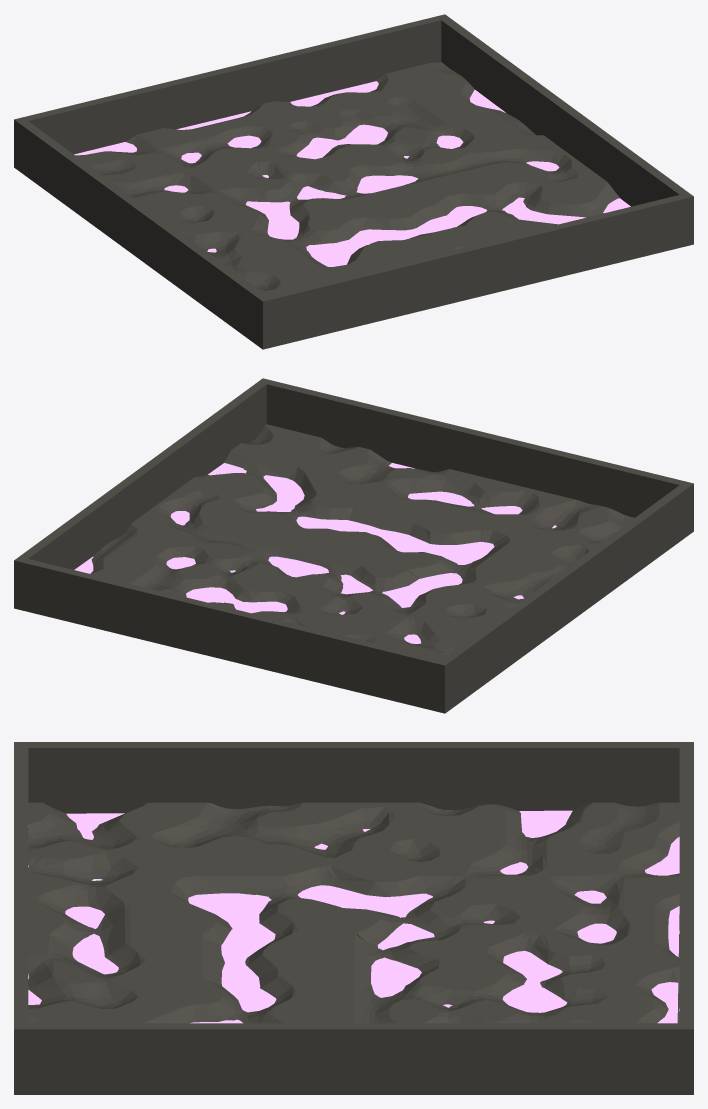
The model's file is krampusOrigin.gltf.
3 views of the same model, one above another, from view 1: azimuth 30°, elevation 25°; view 2: azimuth 150°, elevation 25°; view 3: azimuth 270°, elevation 25° (orthographic). The views are drawn at different scales.
Visible parts, largest first — view 1: border.002, Plane.015, Plane.014; view 2: border.002, Plane.015, Plane.014; view 3: Plane.015, border.002, Plane.014.
Part boxes in pixels (<box>): border.002: <box>14,14,693,349</box>; Plane.015: <box>75,62,620,295</box>; Plane.014: <box>74,81,630,266</box>; border.002: <box>14,378,693,713</box>; Plane.015: <box>90,424,634,659</box>; Plane.014: <box>74,463,556,643</box>; Plane.015: <box>28,802,679,1023</box>; border.002: <box>14,742,693,1094</box>; Plane.014: <box>28,810,679,1023</box>.
Size of what is drawn, in the model's own units: 46.97 by 5.43 by 46.97.
